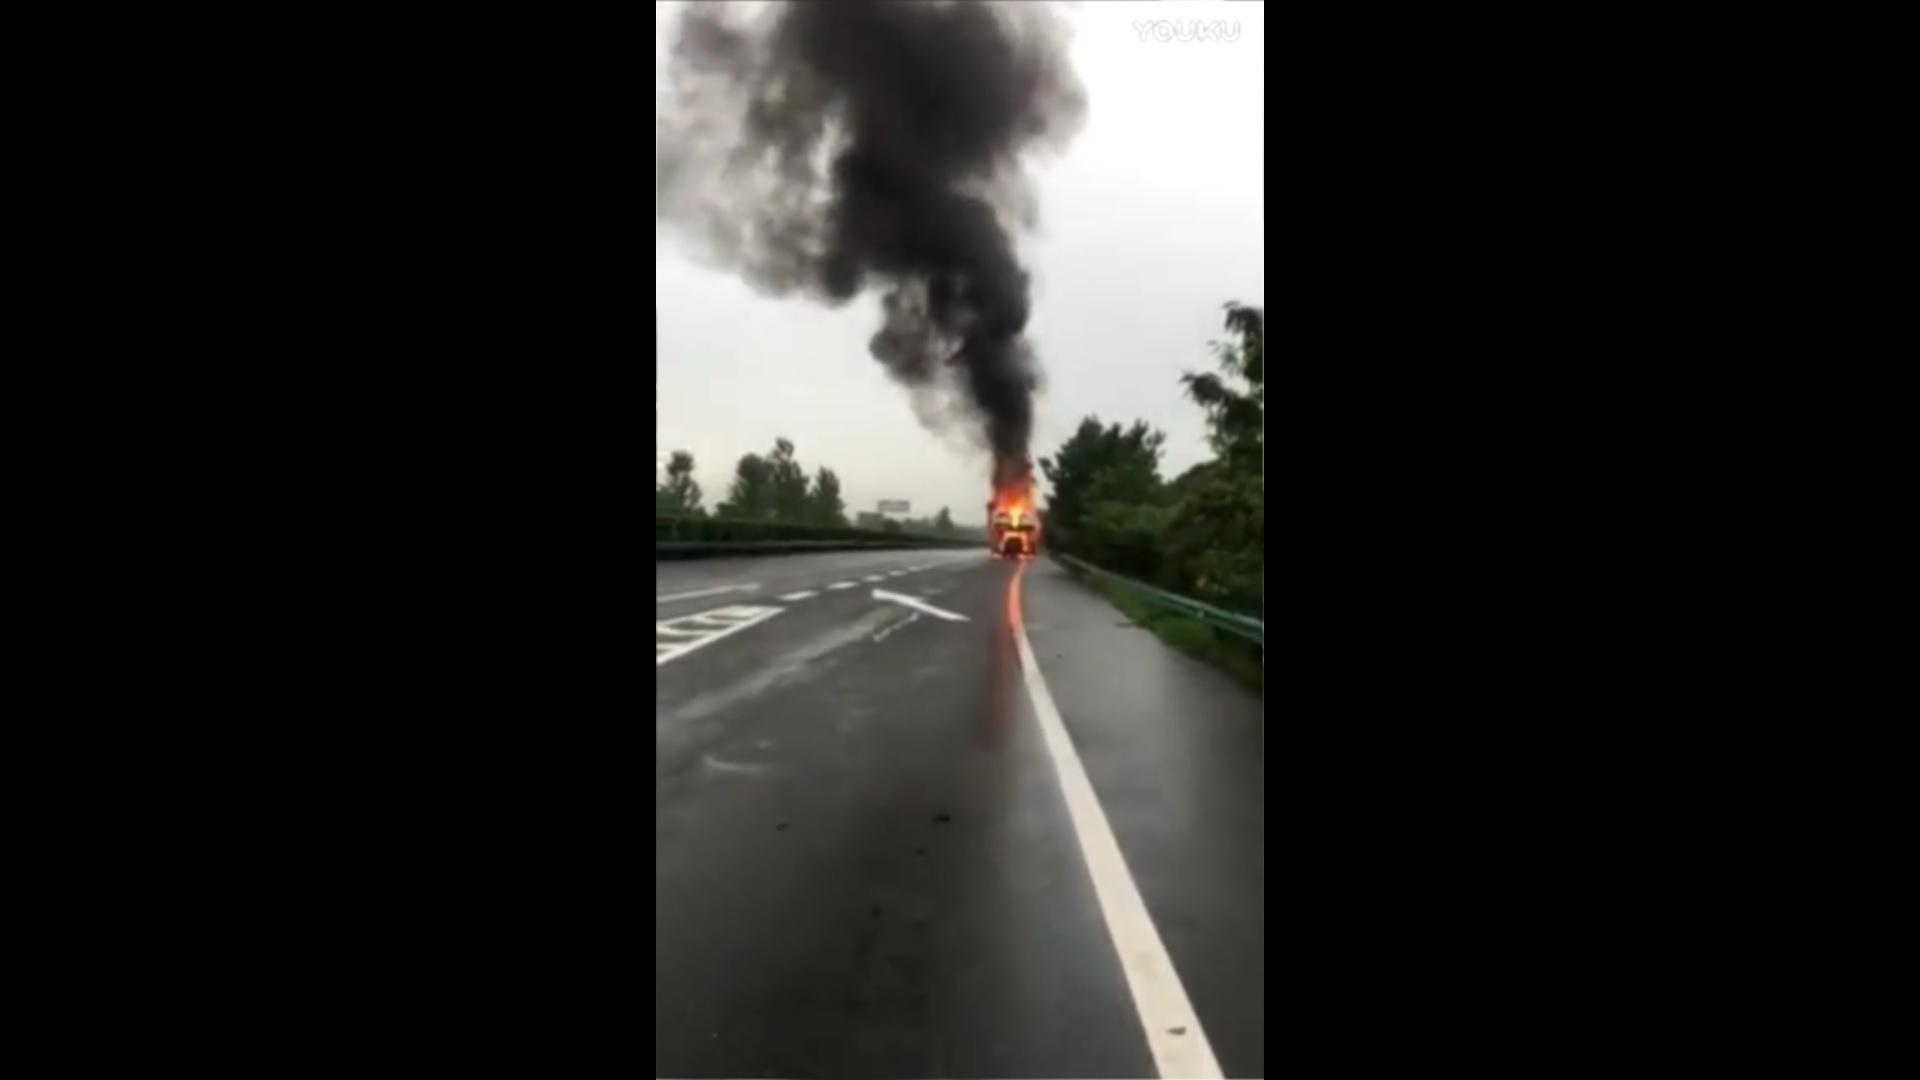fire: (992, 485, 1040, 553)
